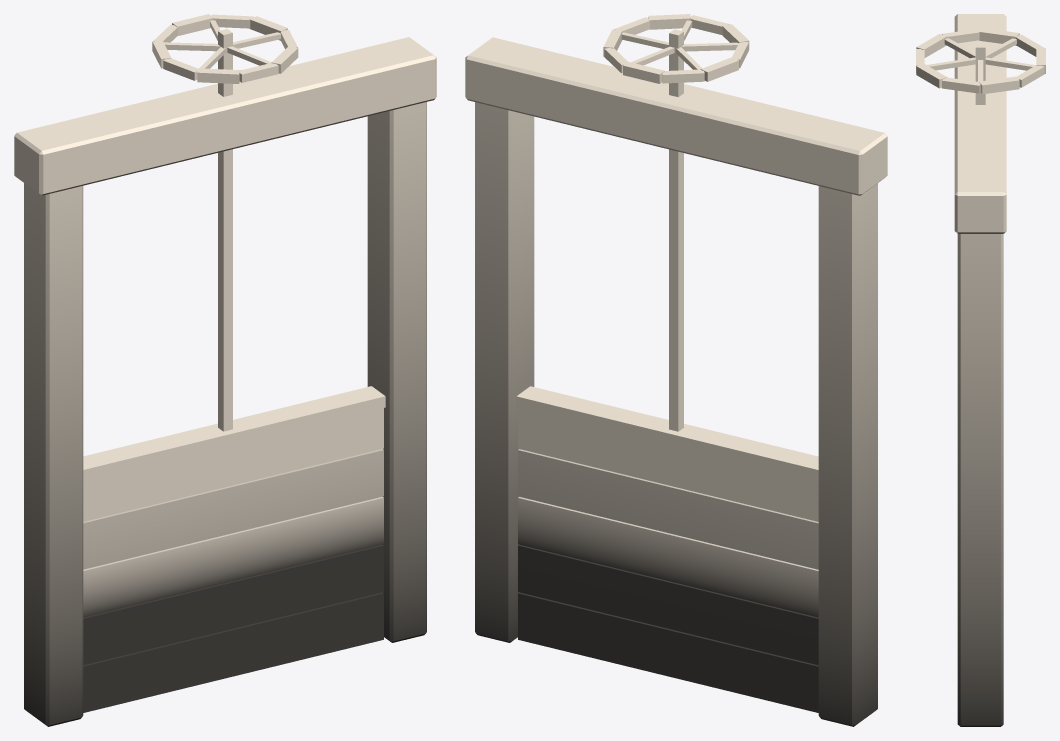
Rendered from SM_VKI_Prop_Sluice.fbx.
The picture shows the model from 3 angles, left to right: view 1: azimuth 30°, elevation 25°; view 2: azimuth 150°, elevation 25°; view 3: azimuth 270°, elevation 25°; orthographic projection. The views are drawn at different scales.
Parts seen in each view (by area): view 1: SM_VKI_Prop_Sluice.001; view 2: SM_VKI_Prop_Sluice.001; view 3: SM_VKI_Prop_Sluice.001.
Part boxes in pixels (x1,y1,x2,y2): SM_VKI_Prop_Sluice.001: [14, 14, 436, 726]; SM_VKI_Prop_Sluice.001: [465, 14, 887, 726]; SM_VKI_Prop_Sluice.001: [916, 14, 1045, 726].
Bounding box in the file's own units: 1.48 × 2.28 × 0.4505.
